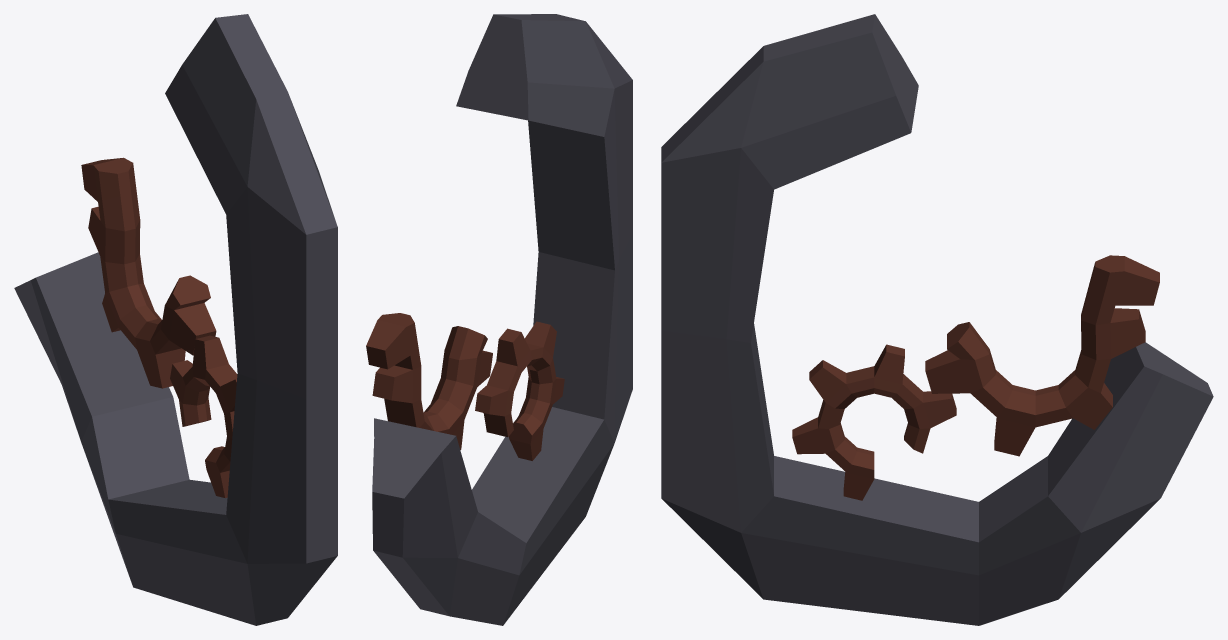
The model's file is DamagedMechanism.fbx.
The picture shows the model from 3 angles, left to right: view 1: azimuth 30°, elevation 25°; view 2: azimuth 150°, elevation 25°; view 3: azimuth 270°, elevation 25°; orthographic projection. The views are drawn at different scales.
Visible parts, largest first — view 1: Cylinder; view 2: Cylinder; view 3: Cylinder.
Part boxes in pixels (left/top/right/bottom): Cylinder: left=14, top=14, right=337, bottom=625; Cylinder: left=366, top=14, right=632, bottom=625; Cylinder: left=661, top=14, right=1213, bottom=625.
Bounding box in the file's own units: 51.94 × 276 × 225.
